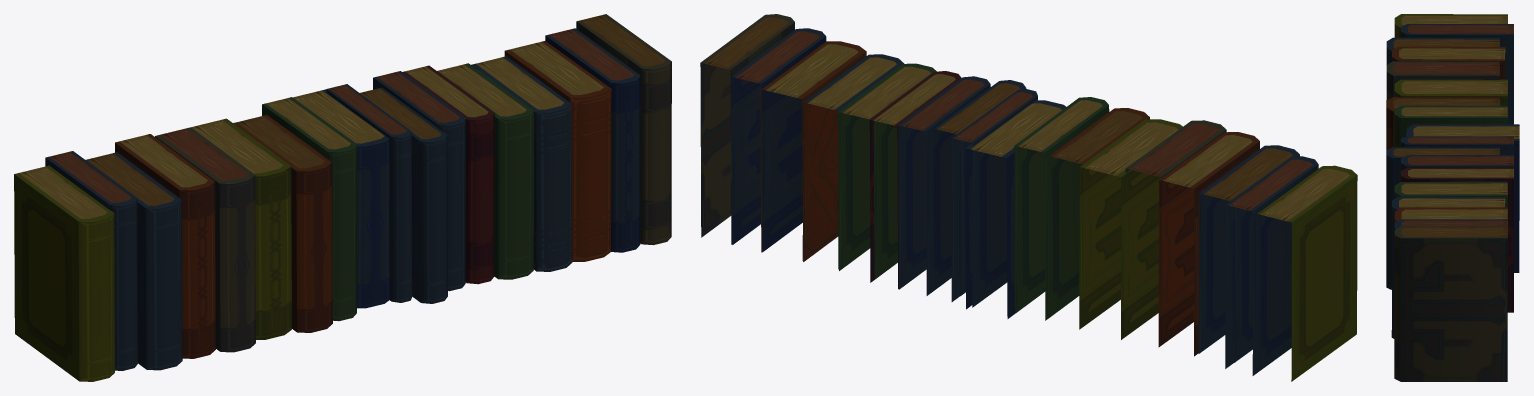
The model's file is BookGroup_Medium_3.gltf.
3 views of the same model, side by side, from view 1: azimuth 30°, elevation 25°; view 2: azimuth 150°, elevation 25°; view 3: azimuth 270°, elevation 25° (orthographic). The views are drawn at different scales.
Parts seen in each view (by area): view 1: BookGroup_Medium_3; view 2: BookGroup_Medium_3; view 3: BookGroup_Medium_3.
Boxes of the visible parts, bbox=[...] form: BookGroup_Medium_3: bbox=[14, 14, 671, 381]; BookGroup_Medium_3: bbox=[700, 14, 1357, 381]; BookGroup_Medium_3: bbox=[1386, 14, 1519, 381].
Size of the model in its own units: 1.04 by 0.2949 by 0.2475.
1 material, 1 textured.
